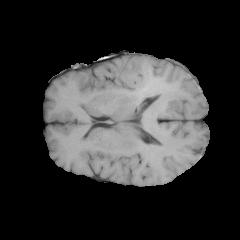glioma: (77, 56, 177, 119)
